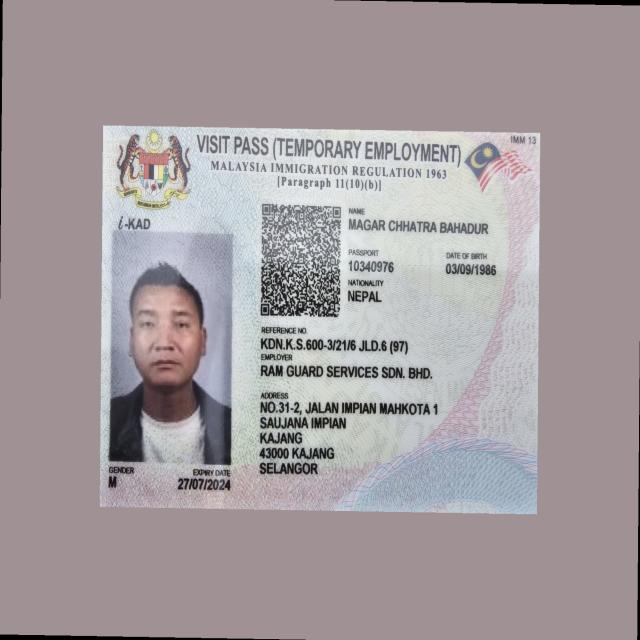ikad-temp: (100, 124, 540, 512)
